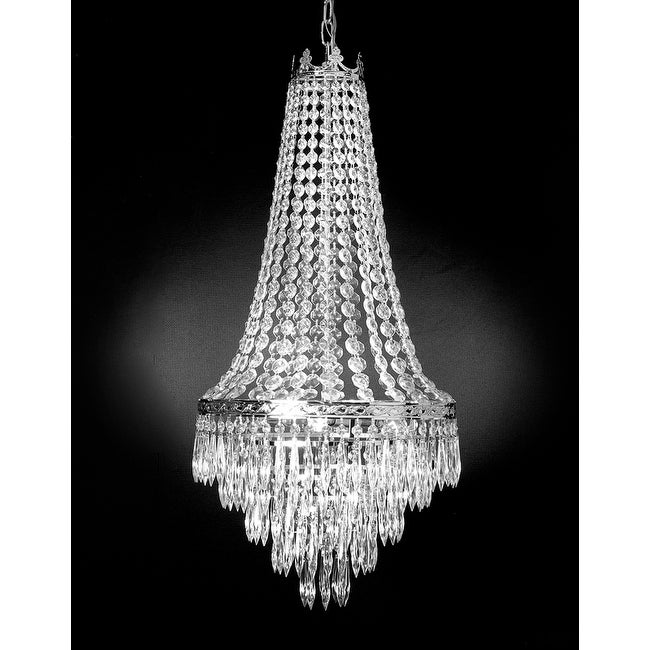chandelier: (176, 3, 485, 619)
